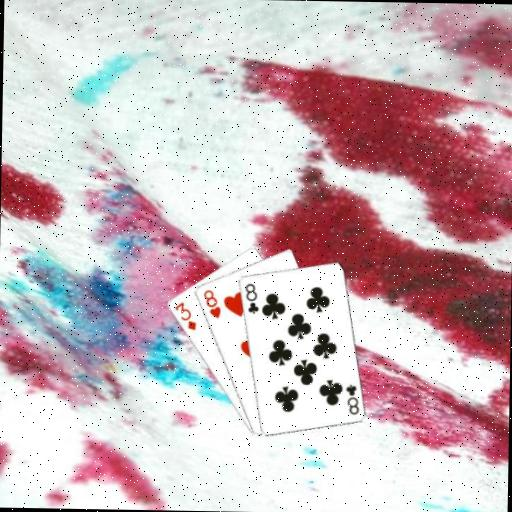3D: (171, 299, 198, 332)
8C: (242, 280, 261, 315), (342, 381, 361, 416)
8H: (199, 286, 223, 320)
